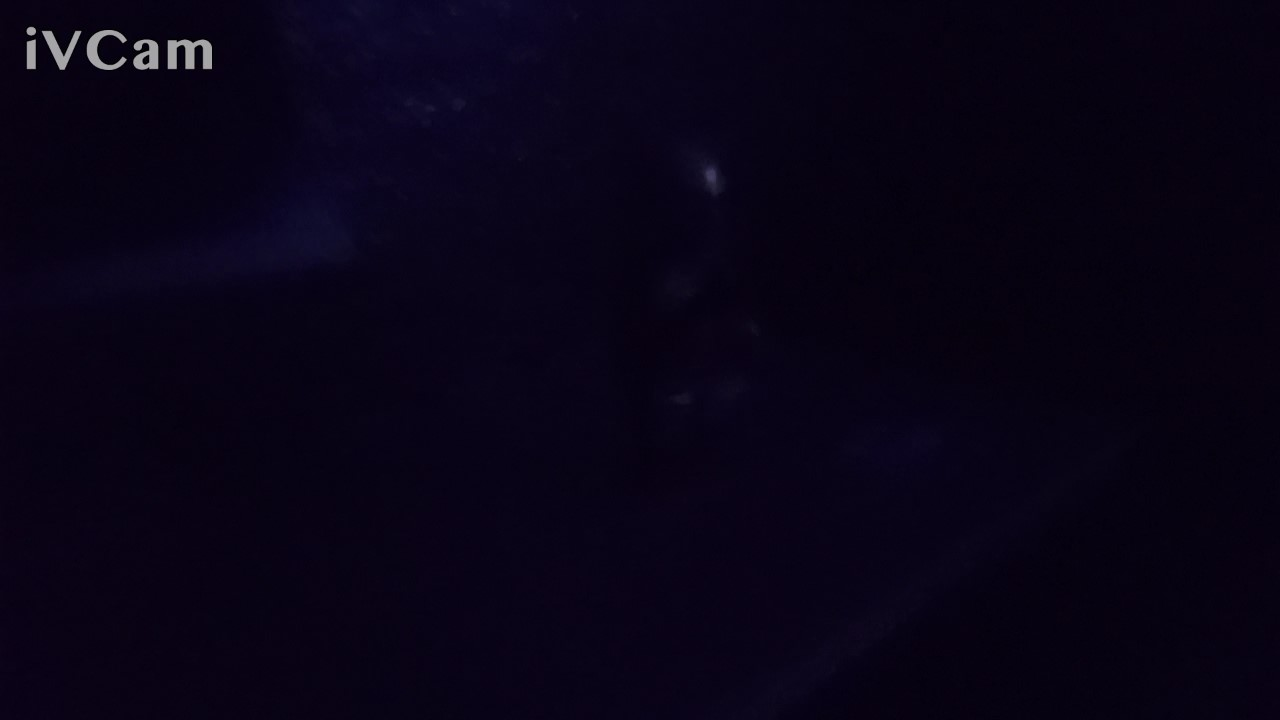mandalorian: (566, 122, 820, 508)
